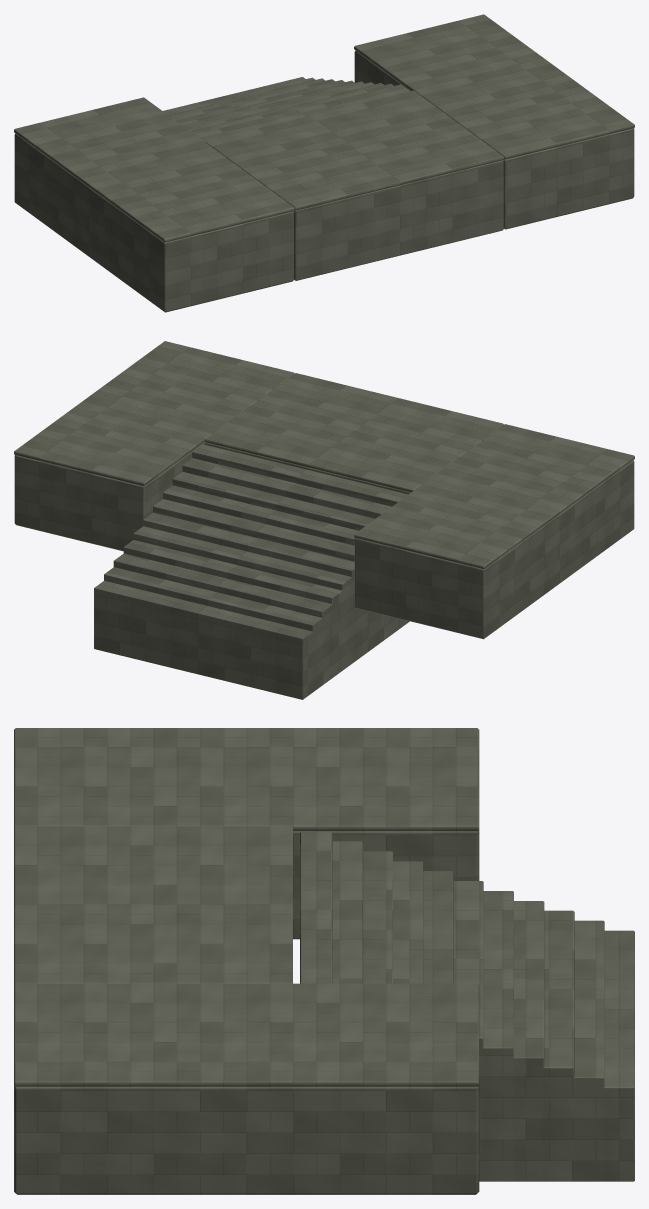
The model's file is port_quay.glb.
3 renders of one model, top to bottom at view 1: azimuth 30°, elevation 25°; view 2: azimuth 150°, elevation 25°; view 3: azimuth 270°, elevation 25°, orthographic. The views are drawn at different scales.
Parts seen in each view (by area): view 1: quay_side_abutment; view 2: quay_side_abutment; view 3: quay_side_abutment.
Boxes of the visible parts, box(x1,y1,x2,y2) form: quay_side_abutment: box(14, 14, 634, 312); quay_side_abutment: box(14, 341, 634, 699); quay_side_abutment: box(14, 728, 634, 1194).
Bounding box in the file's own units: 18 × 4.73 × 13.35.
Materials: 1 (1 with a texture image).
